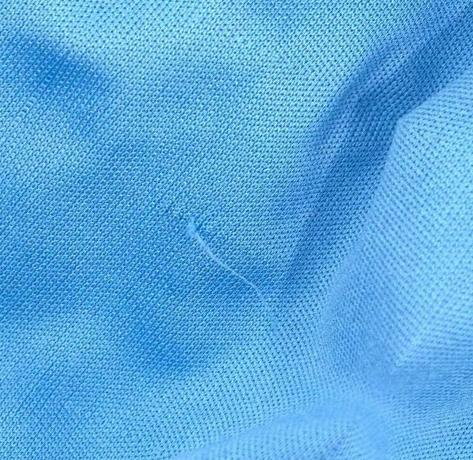stain: (172, 206, 286, 331)
